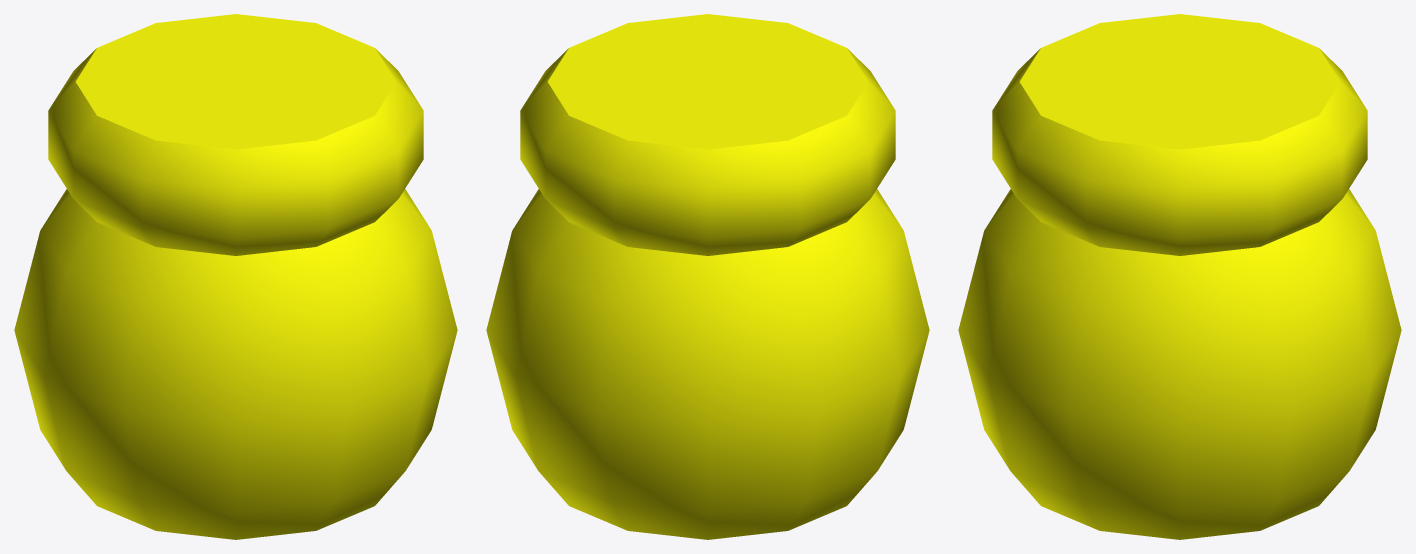
Rendered from kaykit-jar-b-small.glb.
3 views of the same model, side by side, from view 1: azimuth 30°, elevation 25°; view 2: azimuth 150°, elevation 25°; view 3: azimuth 270°, elevation 25° (orthographic).
Visible parts, largest first — view 1: jar_B_small; view 2: jar_B_small; view 3: jar_B_small.
Boxes of the visible parts, x1=… form: jar_B_small: x1=14, y1=14, x2=457, y2=539; jar_B_small: x1=486, y1=14, x2=929, y2=539; jar_B_small: x1=958, y1=14, x2=1401, y2=539.
Bounding box in the file's own units: 0.566 × 0.55 × 0.566.
